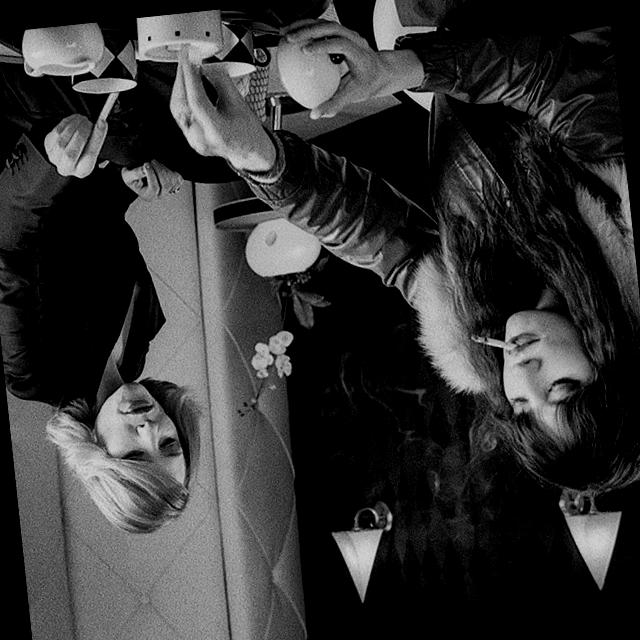smoke: (468, 323, 512, 359)
